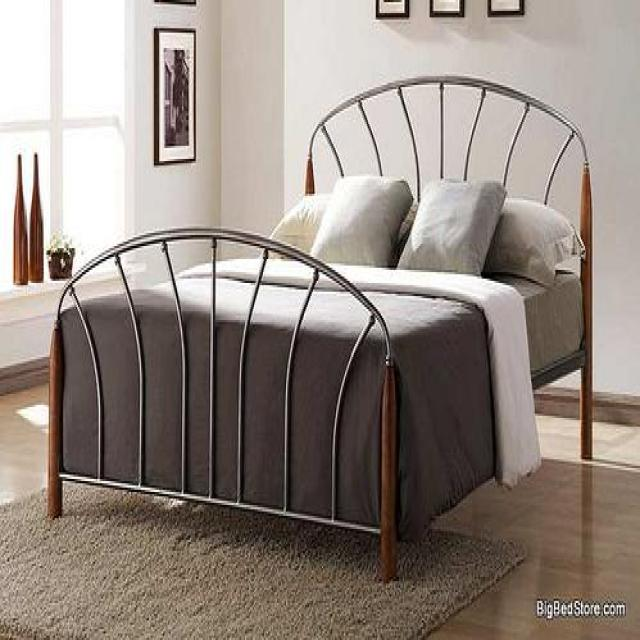bed: (45, 74, 594, 581)
